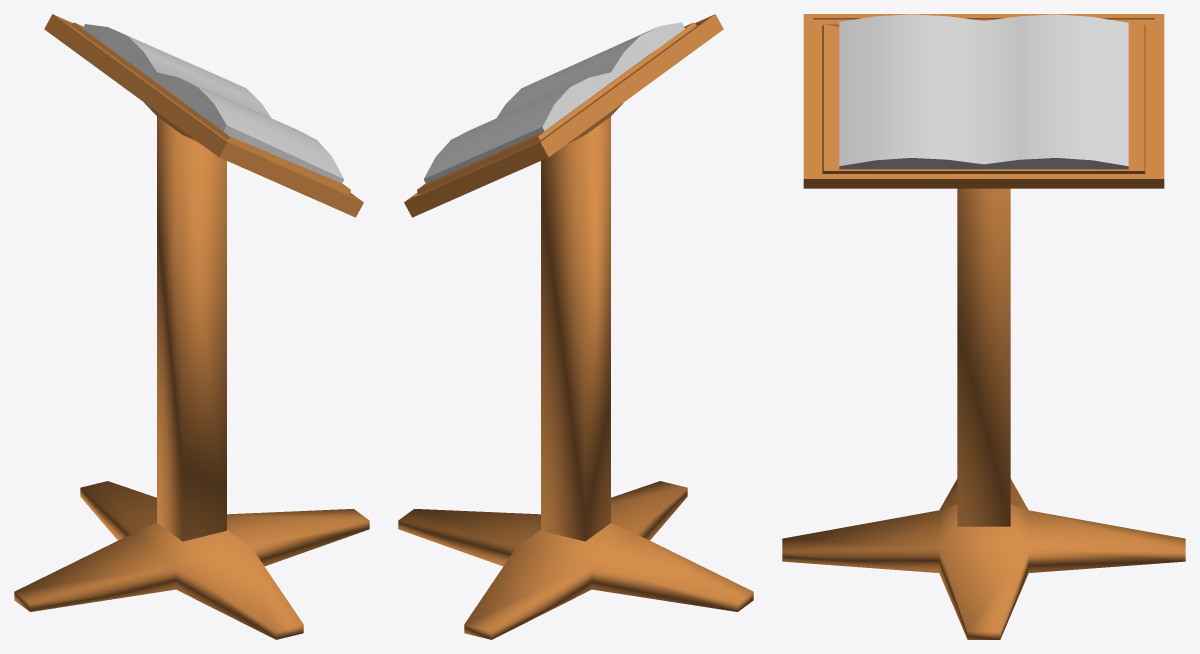
File: bookPedistal.fbx
3 renders of one model, left to right at view 1: azimuth 30°, elevation 25°; view 2: azimuth 150°, elevation 25°; view 3: azimuth 270°, elevation 25°, orthographic. The views are drawn at different scales.
Visible parts, largest first — view 1: Cube.001, Cube.002, Cube.005, Cube.004; view 2: Cube.001, Cube.002, Cube.005, Cube.004; view 3: Cube.005, Cube.001, Cube.002, Cube.004.
Part boxes in pixels (bbox=[...]): Cube.001: bbox=[14, 102, 369, 639]; Cube.002: bbox=[44, 14, 363, 217]; Cube.005: bbox=[128, 36, 343, 178]; Cube.004: bbox=[71, 22, 350, 194]; Cube.001: bbox=[398, 102, 753, 639]; Cube.002: bbox=[404, 14, 723, 217]; Cube.005: bbox=[424, 28, 655, 178]; Cube.004: bbox=[417, 22, 696, 194]; Cube.005: bbox=[839, 14, 1128, 166]; Cube.001: bbox=[782, 188, 1185, 639]; Cube.002: bbox=[803, 14, 1164, 188]; Cube.004: bbox=[822, 24, 1145, 173].
Size of the model in its own units: 125 by 179 by 125.
